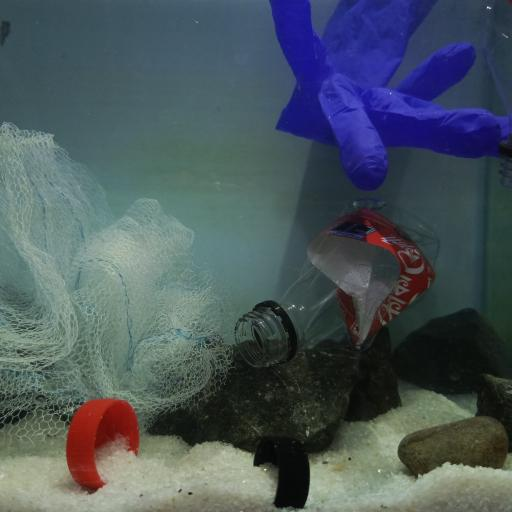bottle_cap: (67, 396, 142, 492), (253, 434, 311, 509)
glove: (263, 0, 512, 193)
net: (0, 120, 231, 446)
plastic_bottle: (237, 197, 443, 371)
